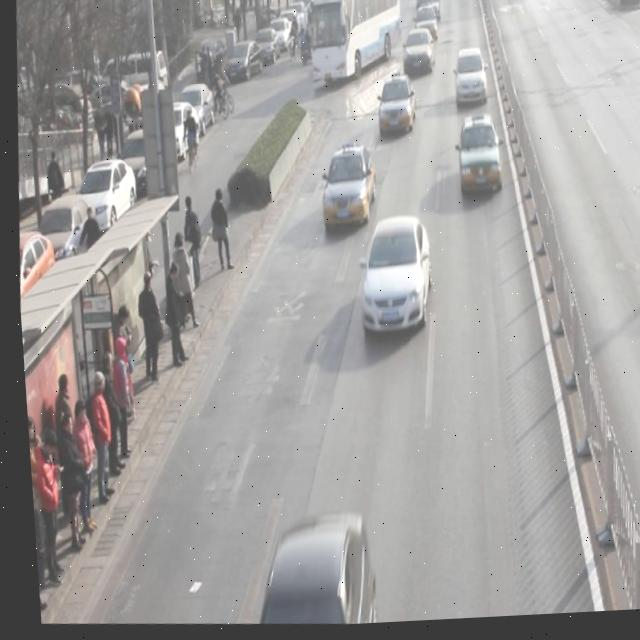car: (240, 507, 374, 631), (351, 214, 434, 341), (315, 144, 377, 234), (451, 119, 503, 202), (372, 78, 418, 141), (450, 51, 489, 113), (400, 32, 437, 82), (412, 10, 439, 49), (419, 0, 442, 28)
van: (303, 0, 406, 99)
